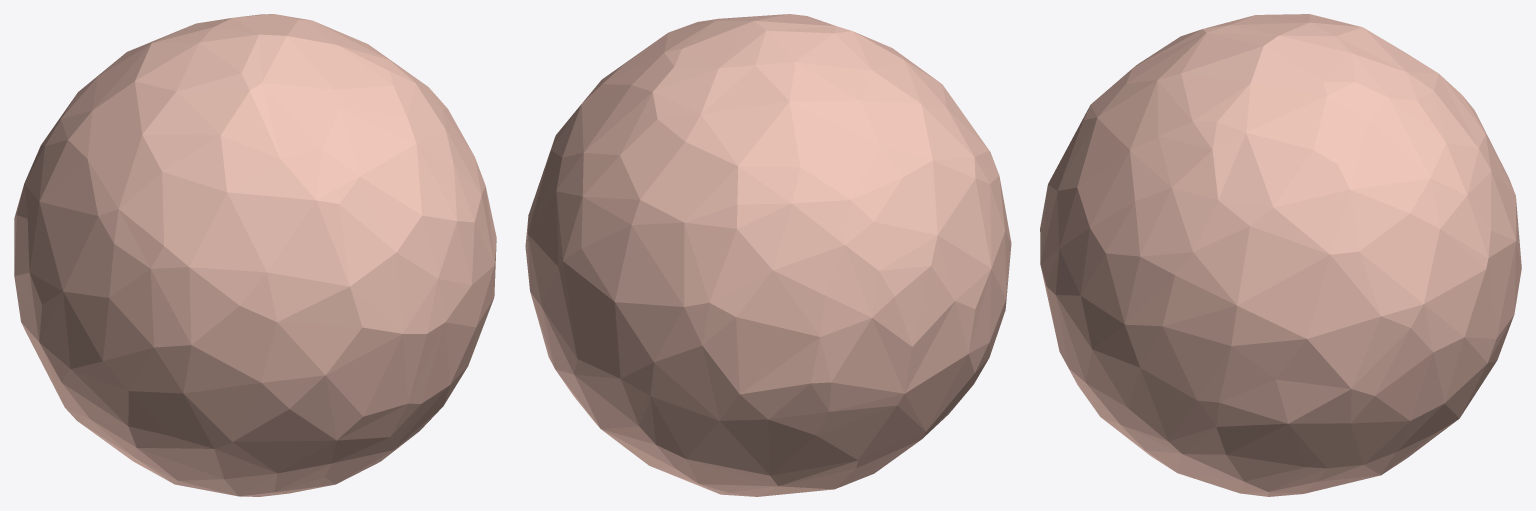
File: pluto.gltf
The picture shows the model from 3 angles, left to right: view 1: azimuth 30°, elevation 25°; view 2: azimuth 150°, elevation 25°; view 3: azimuth 270°, elevation 25°; orthographic projection.
Parts seen in each view (by area): view 1: Pluto_Sphere_25; view 2: Pluto_Sphere_25; view 3: Pluto_Sphere_25.
Part boxes in pixels (bbox=[...]): Pluto_Sphere_25: bbox=[14, 14, 496, 496]; Pluto_Sphere_25: bbox=[525, 14, 1011, 496]; Pluto_Sphere_25: bbox=[1040, 14, 1521, 496].
Size of the model in its own units: 0.00676 by 0.00682 by 0.00677.
